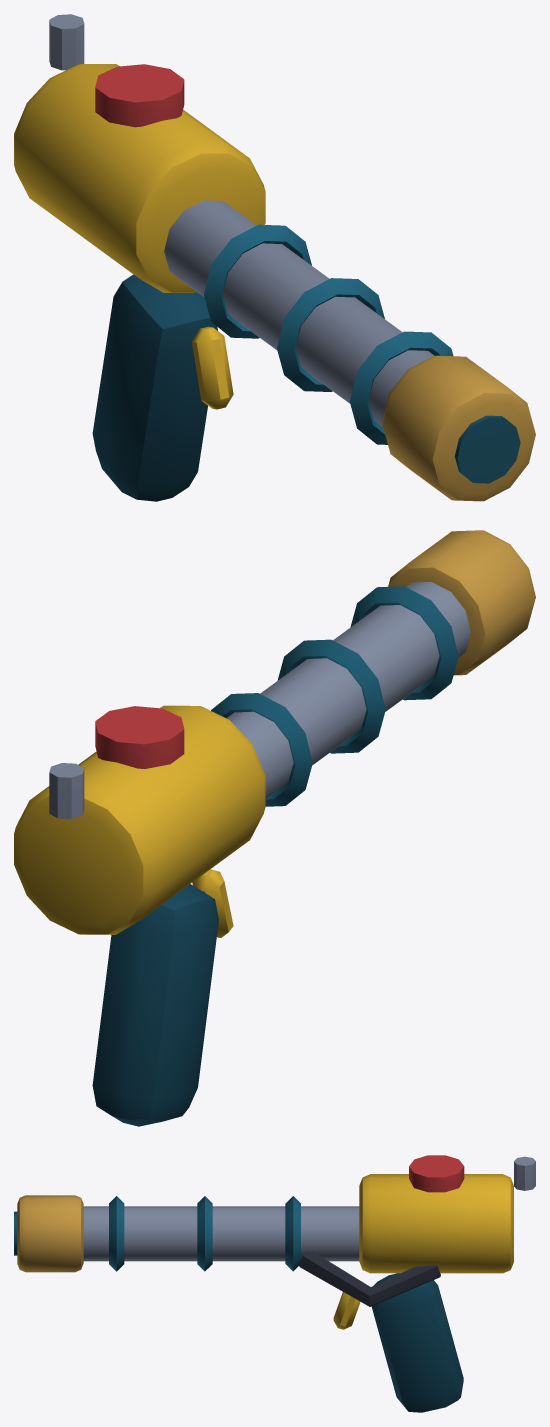
Rendered from w_n_geyser.glb.
The picture shows the model from 3 angles, top to bottom: view 1: azimuth 30°, elevation 25°; view 2: azimuth 150°, elevation 25°; view 3: azimuth 270°, elevation 25°; orthographic projection. The views are drawn at different scales.
Visible parts, largest first — view 1: body; view 2: body; view 3: body.
Part boxes in pixels (left/top/right/bottom): body: left=14, top=14, right=535, bottom=501; body: left=14, top=530, right=535, bottom=1126; body: left=14, top=1155, right=535, bottom=1412.
Size of the model in its own units: 0.1948 by 0.4716 by 0.8987.
